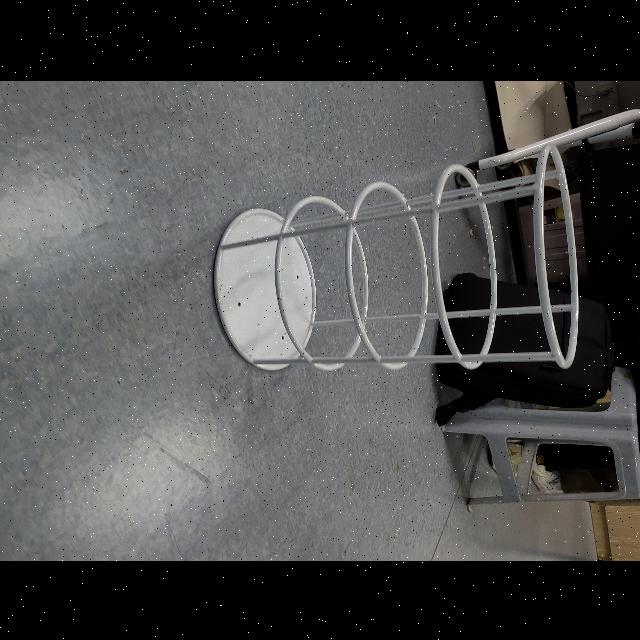S: (205, 137, 582, 377)
